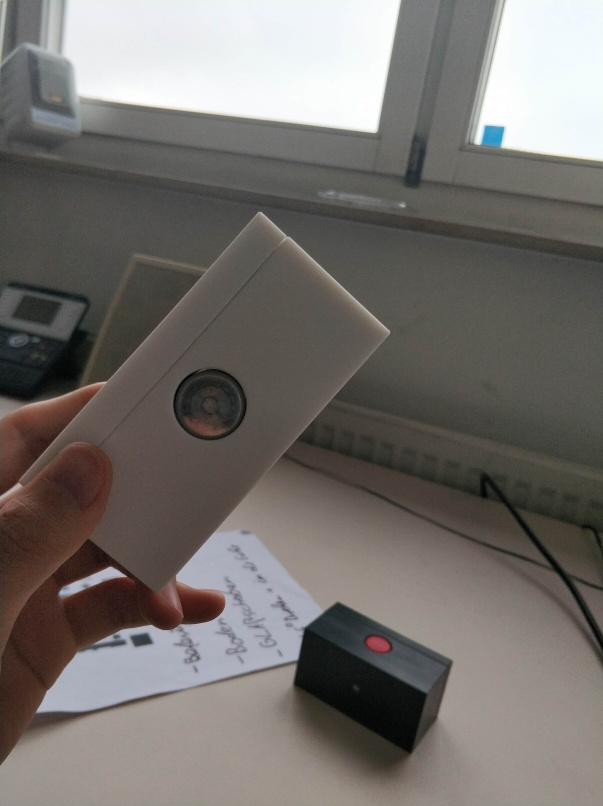black+black+red: (291, 599, 455, 757)
white+white+silver: (16, 202, 395, 594)
